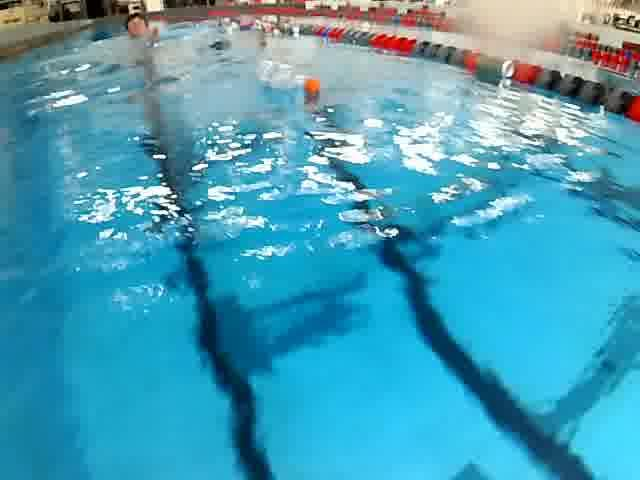Bottle: (245, 56, 331, 104)
Can: (454, 48, 516, 88), (252, 19, 282, 42), (252, 9, 280, 29), (284, 19, 306, 41)
